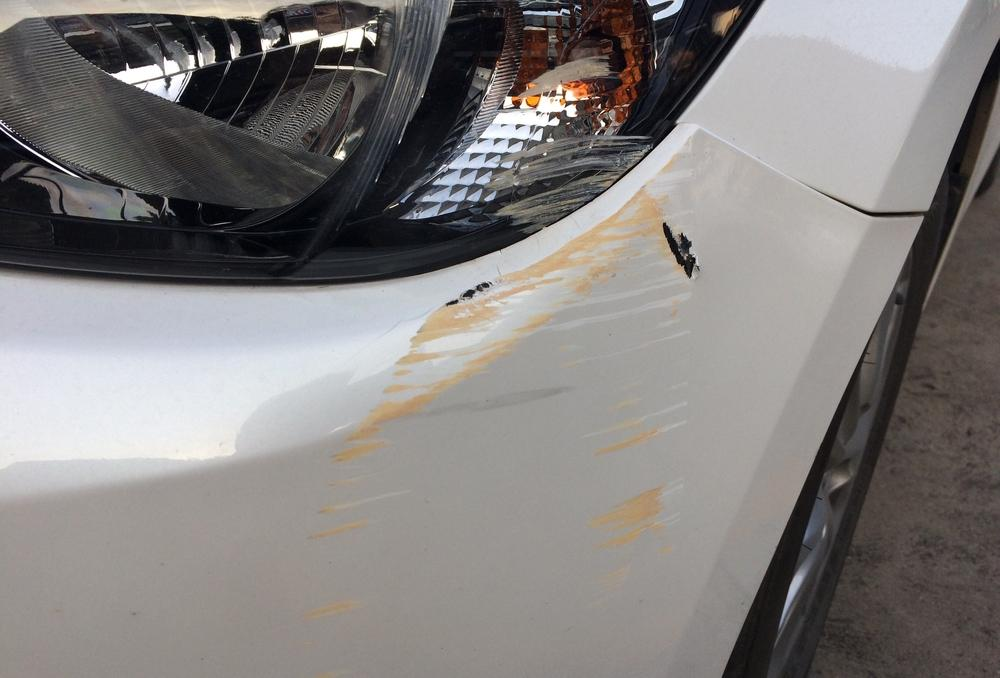scratch: (298, 138, 722, 628), (486, 133, 658, 230)
